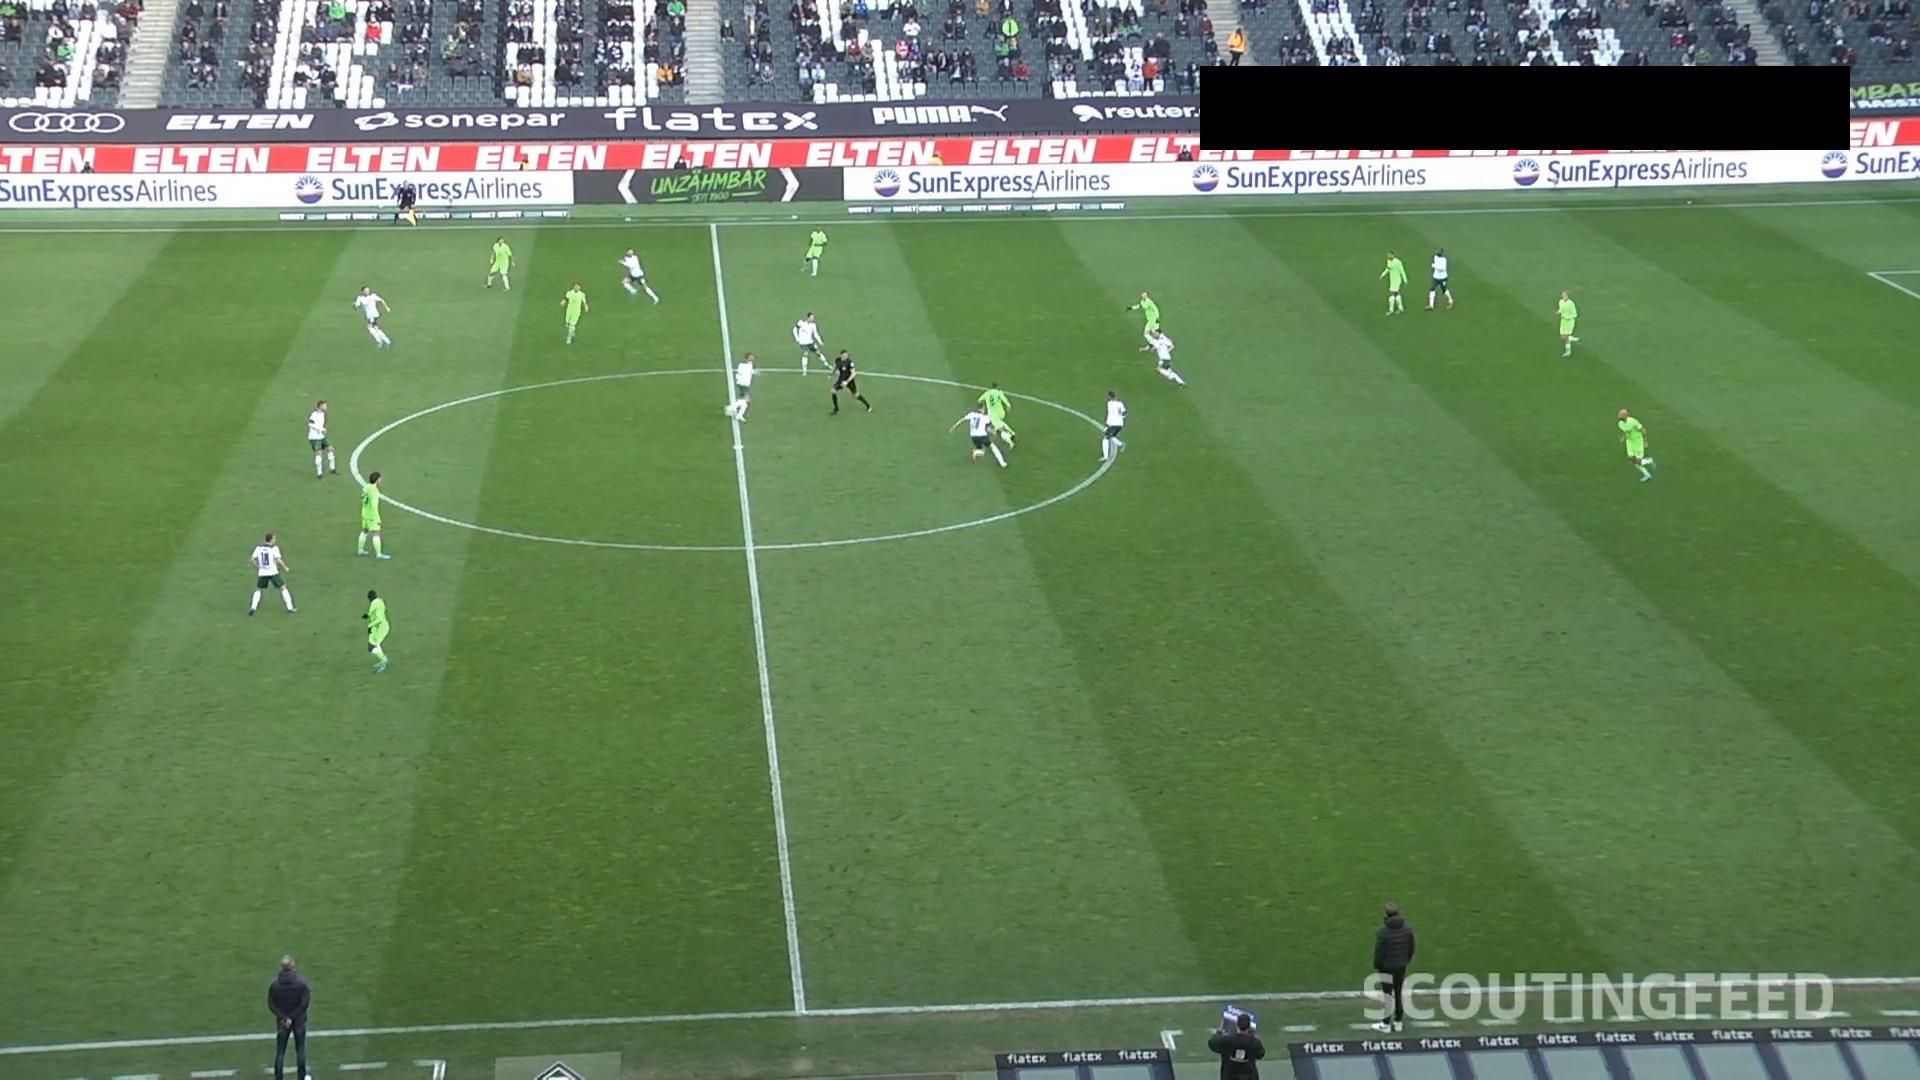coach: (1370, 900, 1415, 1032), (267, 953, 311, 1079)
player: (246, 531, 296, 615), (948, 403, 1008, 468), (356, 470, 390, 558), (1615, 406, 1654, 481), (975, 380, 1016, 449), (1140, 325, 1186, 386), (352, 284, 392, 348), (360, 588, 390, 673), (791, 311, 830, 376), (617, 246, 659, 304), (306, 399, 337, 477), (1124, 289, 1162, 351), (723, 351, 756, 422), (1098, 389, 1126, 460), (1378, 249, 1407, 316), (558, 281, 588, 344), (1424, 247, 1454, 310), (484, 235, 513, 291), (1555, 288, 1578, 357), (800, 226, 827, 276)
referee: (1207, 1005, 1264, 1078), (827, 348, 871, 414), (390, 170, 419, 225)
